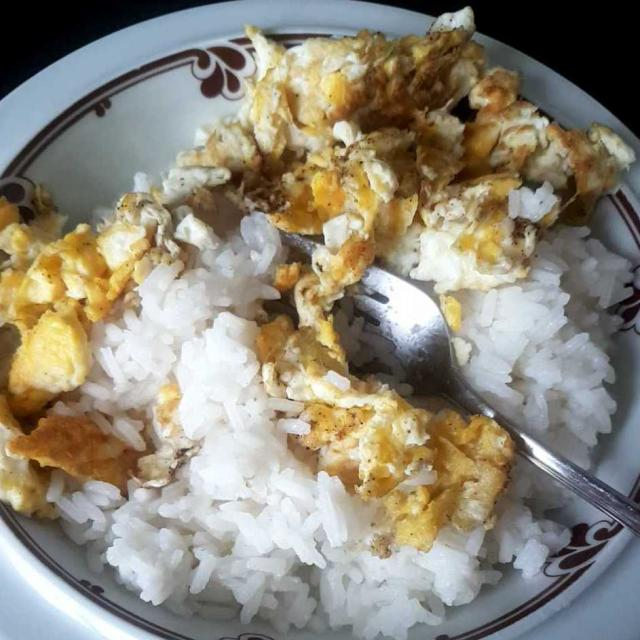egg-scrambled-prepared: (5, 3, 635, 550)
rice: (80, 197, 619, 632)
